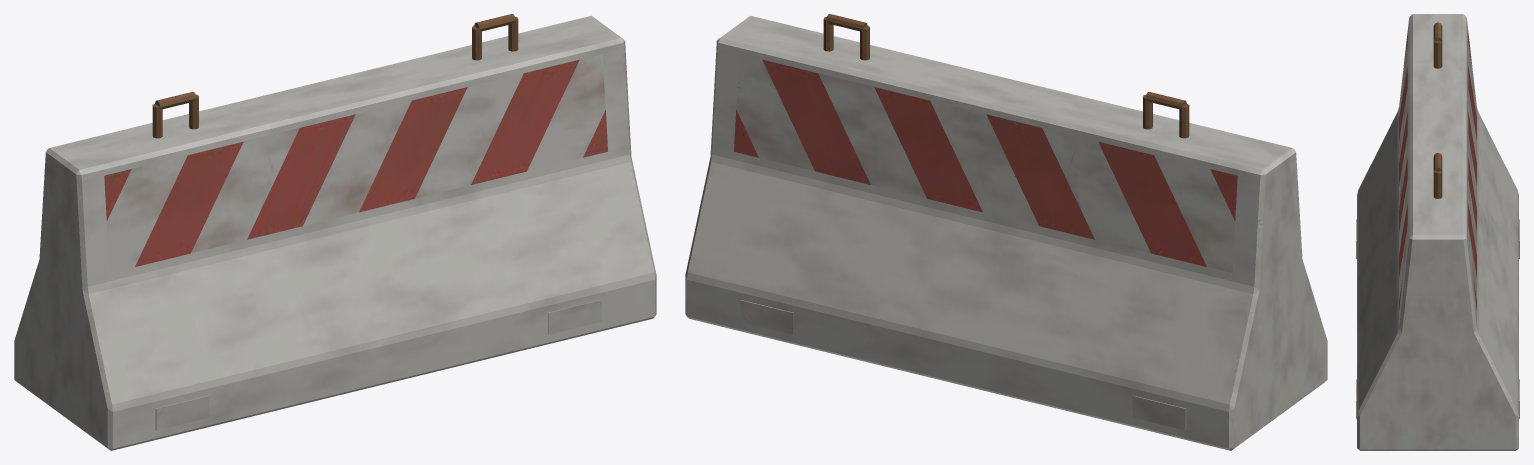
File: RE14_road_barrier_v2.glb
The picture shows the model from 3 angles, left to right: view 1: azimuth 30°, elevation 25°; view 2: azimuth 150°, elevation 25°; view 3: azimuth 270°, elevation 25°; orthographic projection. The views are drawn at different scales.
Visible parts, largest first — view 1: Chipped concrete barrier; view 2: Chipped concrete barrier; view 3: Chipped concrete barrier.
Boxes of the visible parts, left/top/right/bottom form: Chipped concrete barrier: left=14, top=14, right=656, bottom=450; Chipped concrete barrier: left=685, top=14, right=1327, bottom=450; Chipped concrete barrier: left=1356, top=14, right=1519, bottom=450.
Bounding box in the file's own units: 2 × 1.02 × 0.6184.
Materials: 5 (5 with a texture image).
